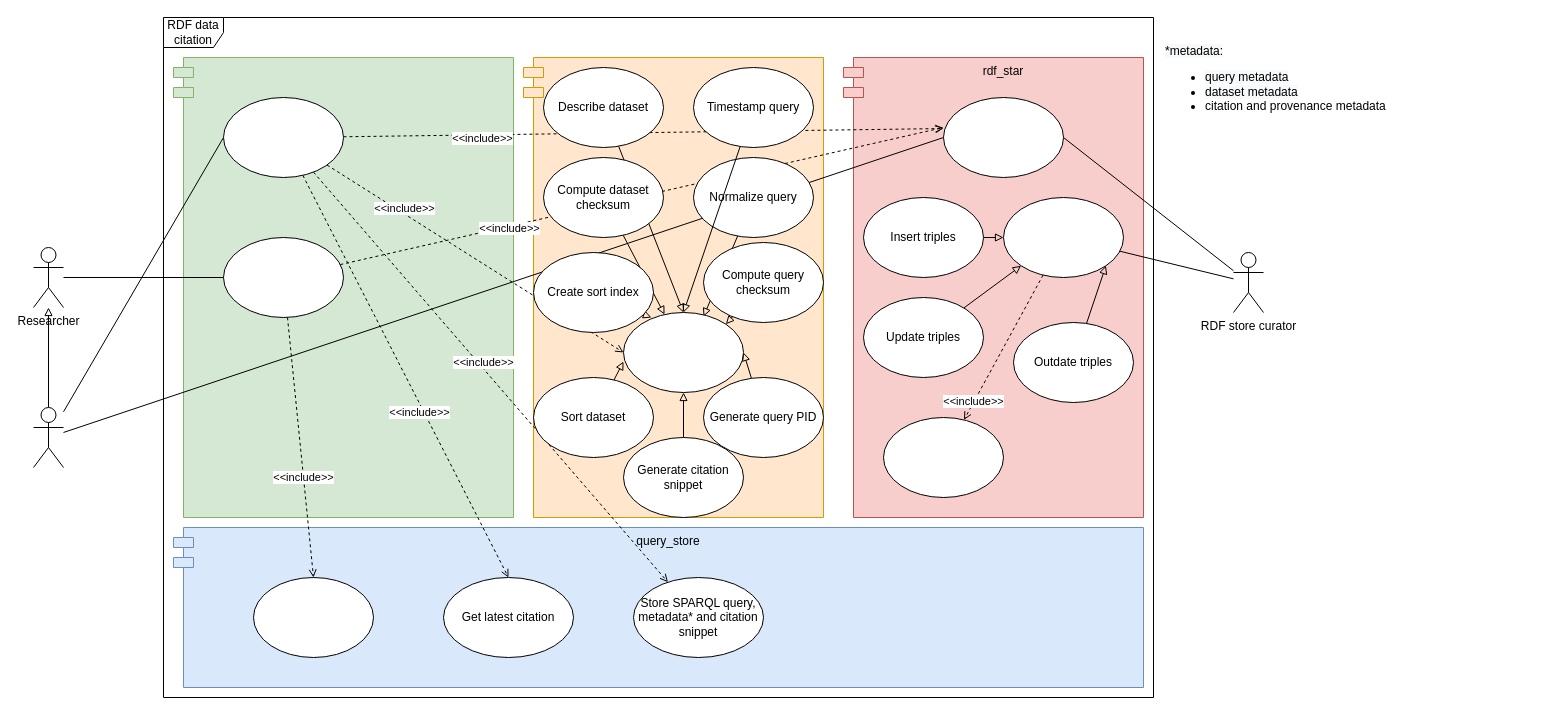
This 1560x715 diagram has some shape labels left out. The box of each missing label's shape, as (x1, y1, x2, y2) in pixels:
citation: (172, 56, 514, 518)
citation_utils: (522, 56, 824, 518)
Cite RDF dataset: (222, 96, 344, 178)
data citation measures /recommendations: (622, 312, 744, 392)
Get SPARQL query, metadata* and citation snippet: (252, 576, 374, 658)
Publisher: (32, 406, 64, 468)
Query RDF data: (942, 96, 1064, 178)
Retrieve cited dataset: (222, 236, 344, 318)
Timestamp data: (882, 416, 1004, 498)
Update graph: (1002, 196, 1124, 278)
